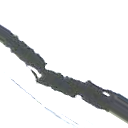crackTip: (1, 25, 128, 120)
